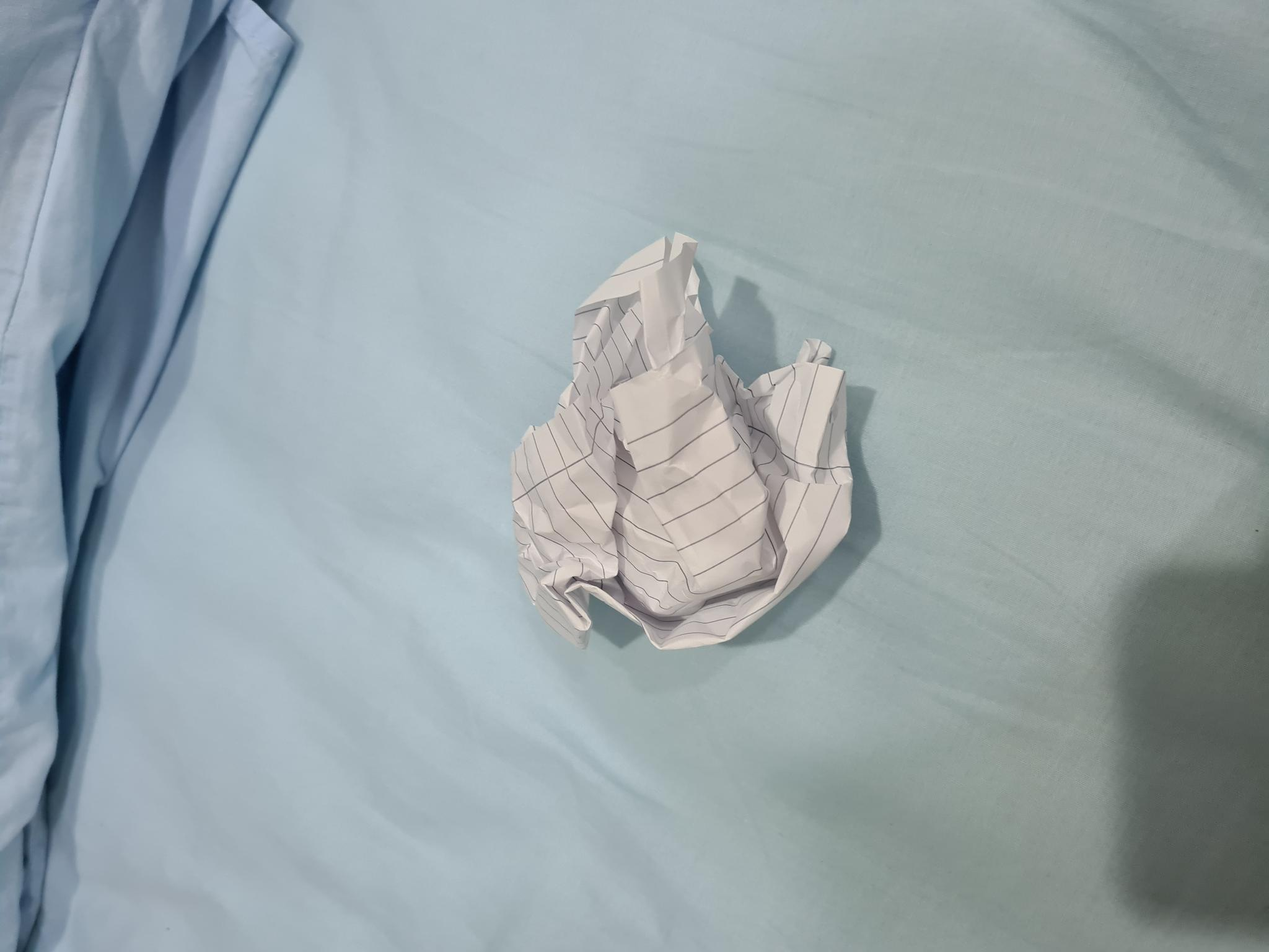Kertas: (303, 513, 716, 852)
